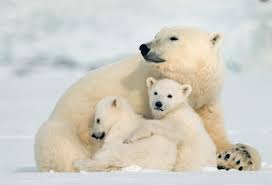PolarBear: (32, 27, 234, 174)
